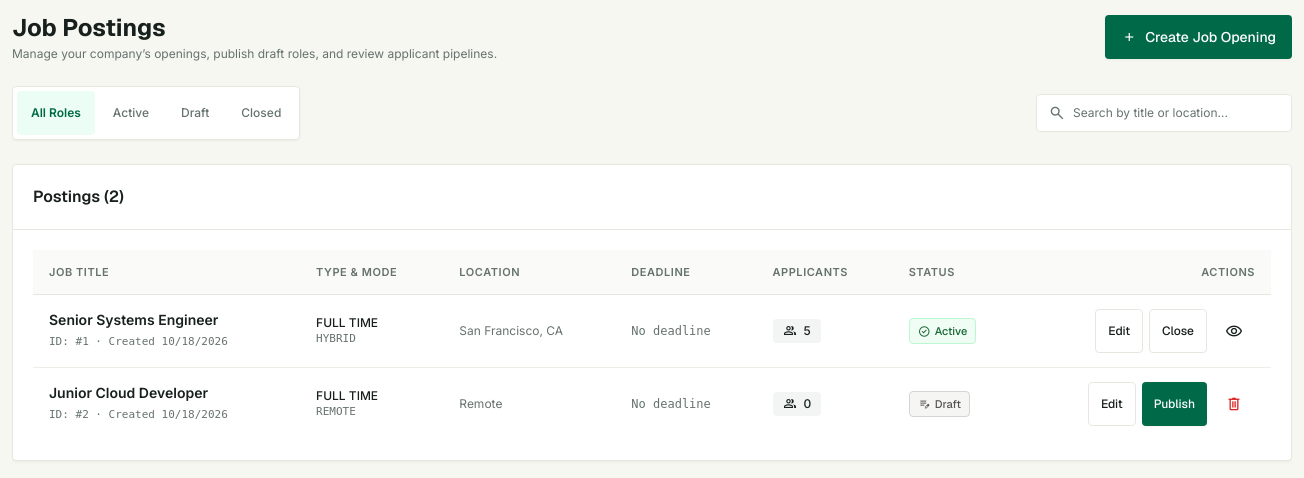
Test: RecruiterJobsPage › filters jobs by status tab
Check: the link "Senior Systems Engineer" is shown, box left=49, top=311, right=218, bottom=328
Note: Click Draft tab
Click the tab "Draft".
click(195, 113)  # box left=167, top=91, right=223, bottom=135
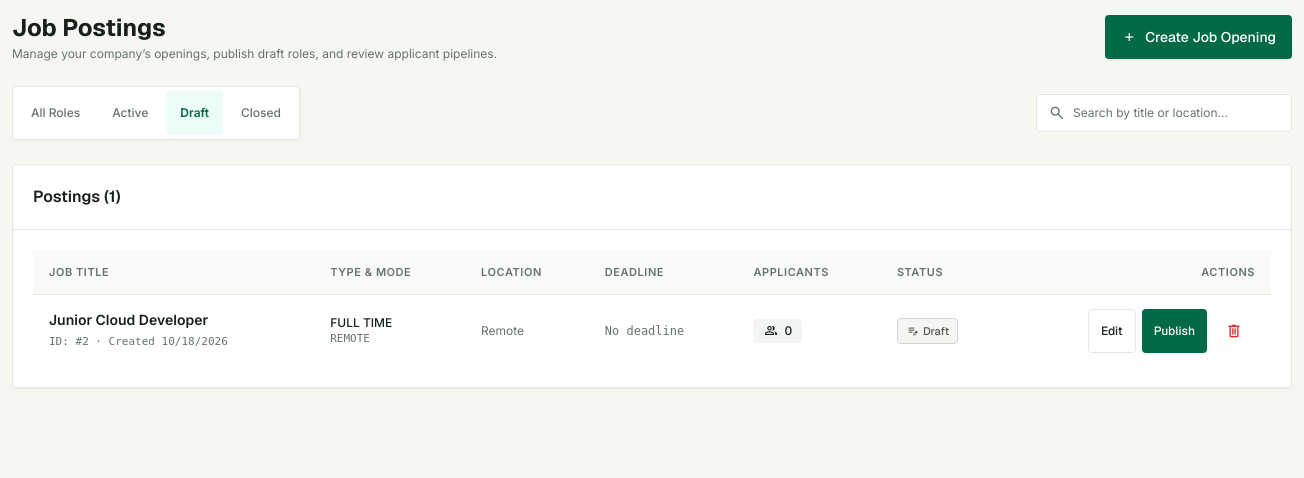
Check: the link "Junior Cloud Developer" is shown, box left=49, top=311, right=208, bottom=328
Check: the link "Senior Systems Engineer" is gone
